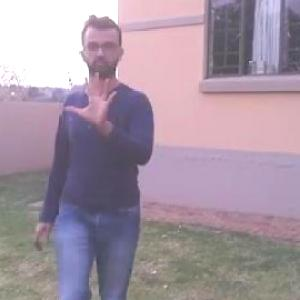follow_hand: (64, 69, 120, 128)
